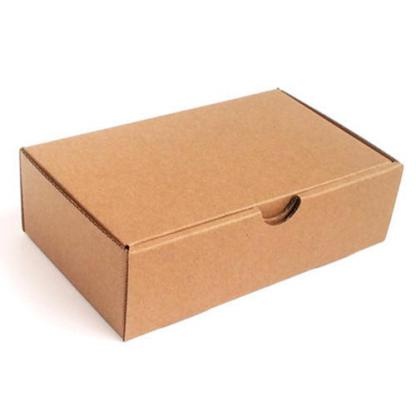box: (18, 84, 405, 342)
